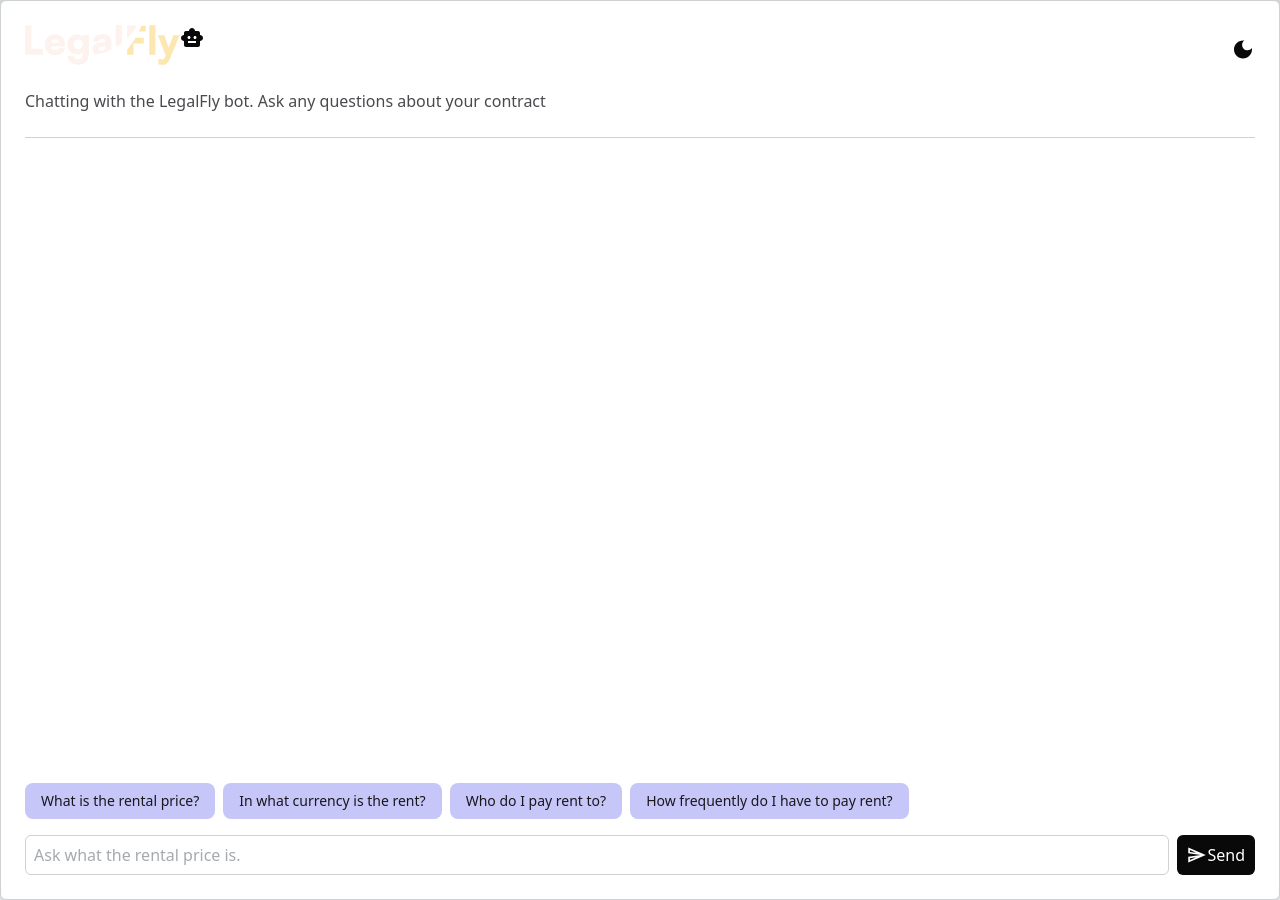
Test case: App › should add a new message to the chat when the form is submitted
In the field with placeholder "Ask what the rental price is.": [597, 855] box x1=25 y1=835 x2=1170 y2=875, type "Test prompt"
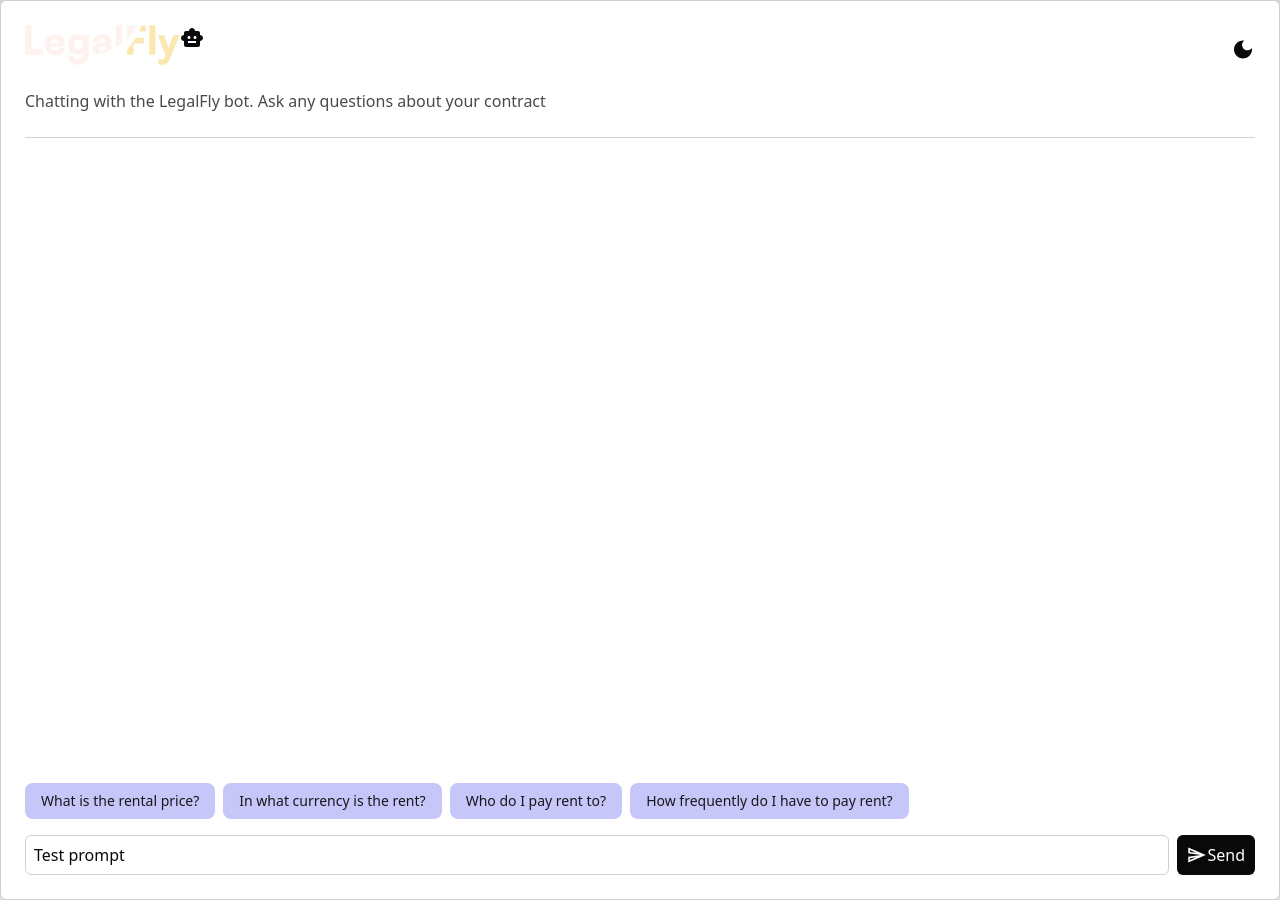
Click the button "Send": [1216, 855] box x1=1178 y1=835 x2=1255 y2=875
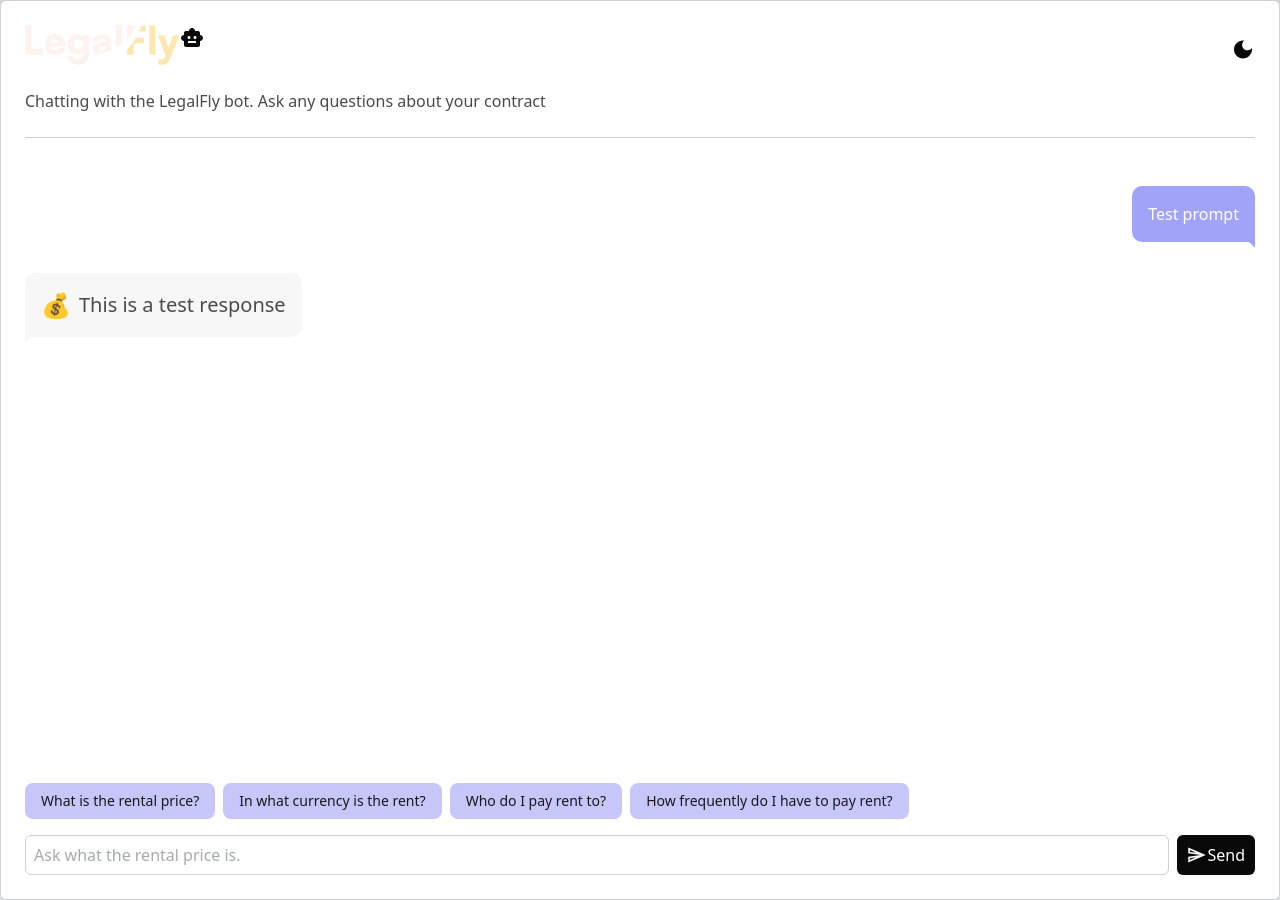
Expected: the text "Test prompt" is shown, x1=1132 y1=186 x2=1255 y2=242
Expected: the text "This is a test response" is shown, x1=79 y1=291 x2=286 y2=319
